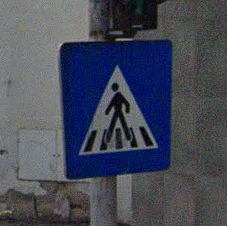trecere_pietoni: (54, 36, 175, 183)
